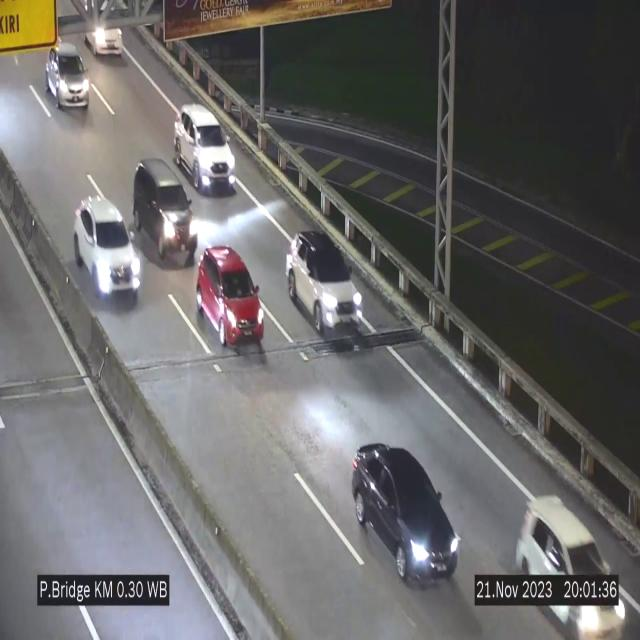Car: (512, 490, 628, 640), (352, 445, 459, 583), (285, 230, 363, 338), (195, 246, 264, 351), (73, 197, 141, 300), (142, 153, 200, 270), (174, 104, 236, 193), (46, 40, 89, 109), (82, 9, 132, 53)
